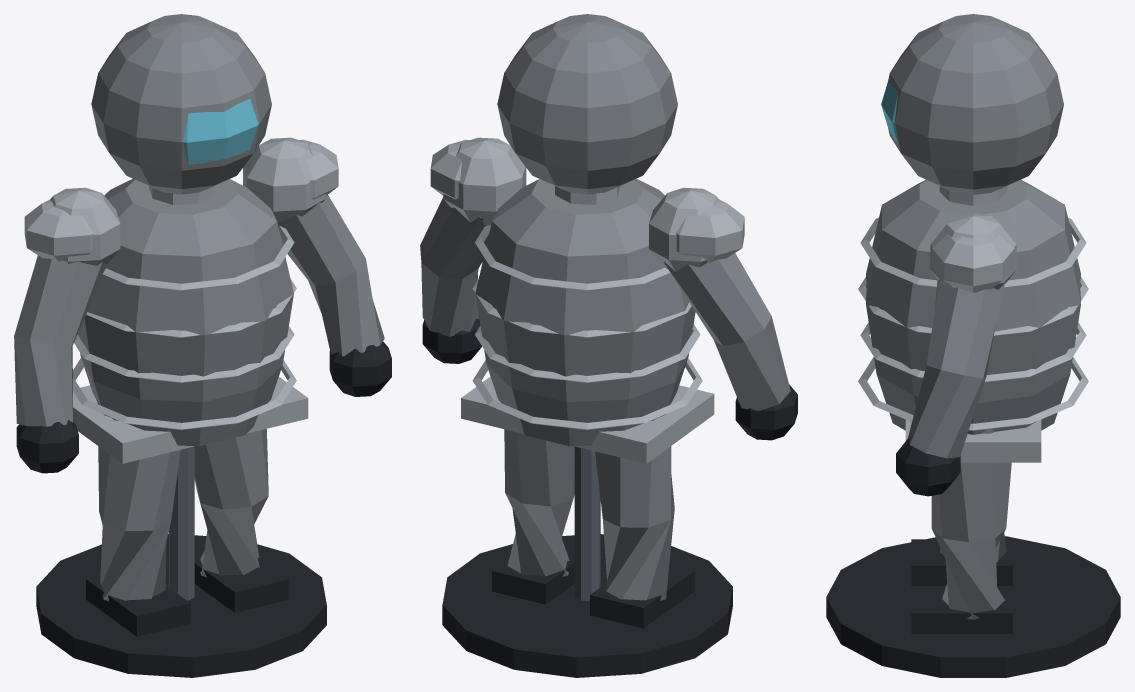
The model's file is fleximetal-fiber-armor.glb.
3 renders of one model, left to right at view 1: azimuth 30°, elevation 25°; view 2: azimuth 150°, elevation 25°; view 3: azimuth 270°, elevation 25°, orthographic.
Visible parts, largest first — view 1: m; view 2: m; view 3: m.
Part boxes in pixels (x1,y1,x2,y2): m: [14, 14, 391, 677]; m: [420, 14, 797, 677]; m: [826, 14, 1120, 677].
Bounding box in the file's own units: 0.3641 × 0.56 × 0.251.
